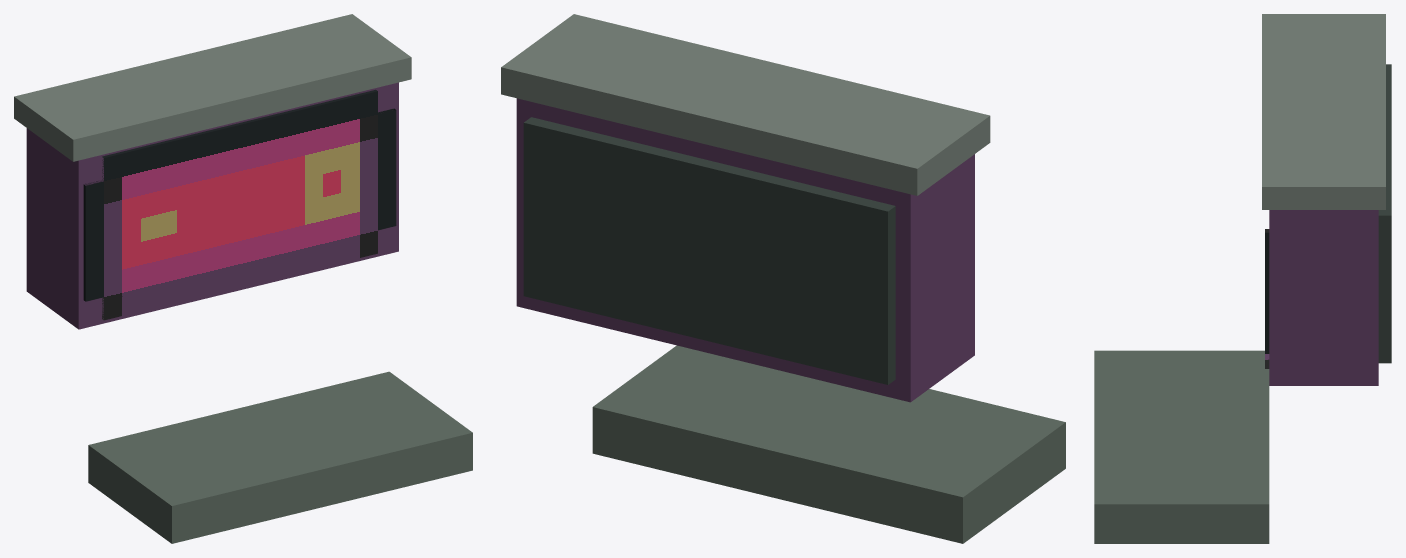
File: CMU3DInteriorRMCOverwatchConsoleGovforTOCShuttle.glb
3 renders of one model, left to right at view 1: azimuth 30°, elevation 25°; view 2: azimuth 150°, elevation 25°; view 3: azimuth 270°, elevation 25°, orthographic. The views are drawn at different scales.
Visible parts, largest first — view 1: source equipment controls, operator keyboard tray, reinforced top, closed equipment casing; view 2: rear service plate, operator keyboard tray, reinforced top, closed equipment casing; view 3: operator keyboard tray, reinforced top, closed equipment casing, rear service plate, source equipment controls.
Boxes of the visible parts, left/top/right/bottom form: source equipment controls: left=83, top=89, right=396, bottom=320; operator keyboard tray: left=88, top=371, right=472, bottom=543; reinforced top: left=14, top=14, right=411, bottom=161; closed equipment casing: left=26, top=82, right=398, bottom=329; rear service plate: left=523, top=117, right=895, bottom=384; operator keyboard tray: left=592, top=345, right=1065, bottom=543; reinforced top: left=501, top=14, right=990, bottom=195; closed equipment casing: left=516, top=98, right=974, bottom=402; operator keyboard tray: left=1094, top=350, right=1269, bottom=543; reinforced top: left=1262, top=14, right=1385, bottom=209; closed equipment casing: left=1269, top=210, right=1378, bottom=385; rear service plate: left=1378, top=64, right=1391, bottom=363; source equipment controls: left=1265, top=229, right=1269, bottom=368.
Size of the model in its own units: 0.5613 by 0.555 by 0.408.
5 materials, 1 textured.
